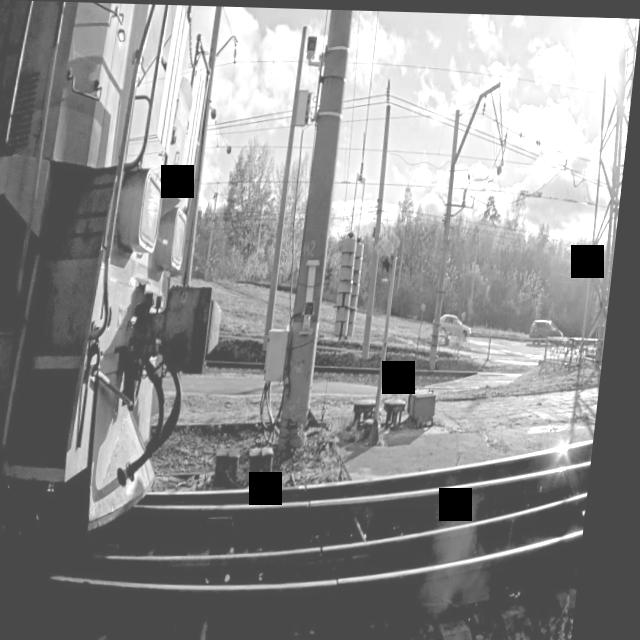locomotive: (0, 0, 266, 640)
